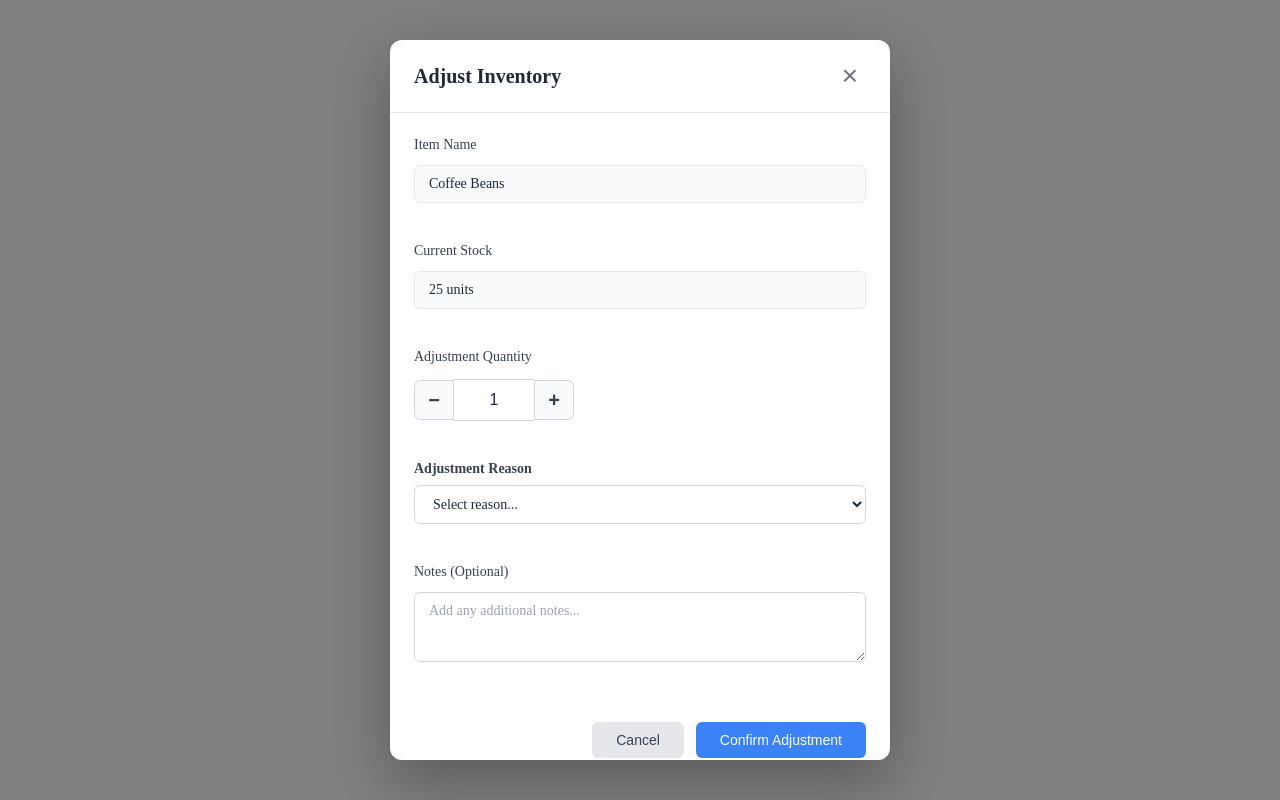
Scenario: InventoryAdjustmentForm Component › shows error when quantity is zero
The width and height of the screenshot is (1280, 800).
// Get the decrement button and click to set quantity to 0
Click the button with test id "quantity-decrement" at (434, 400), box [414,380,454,420]
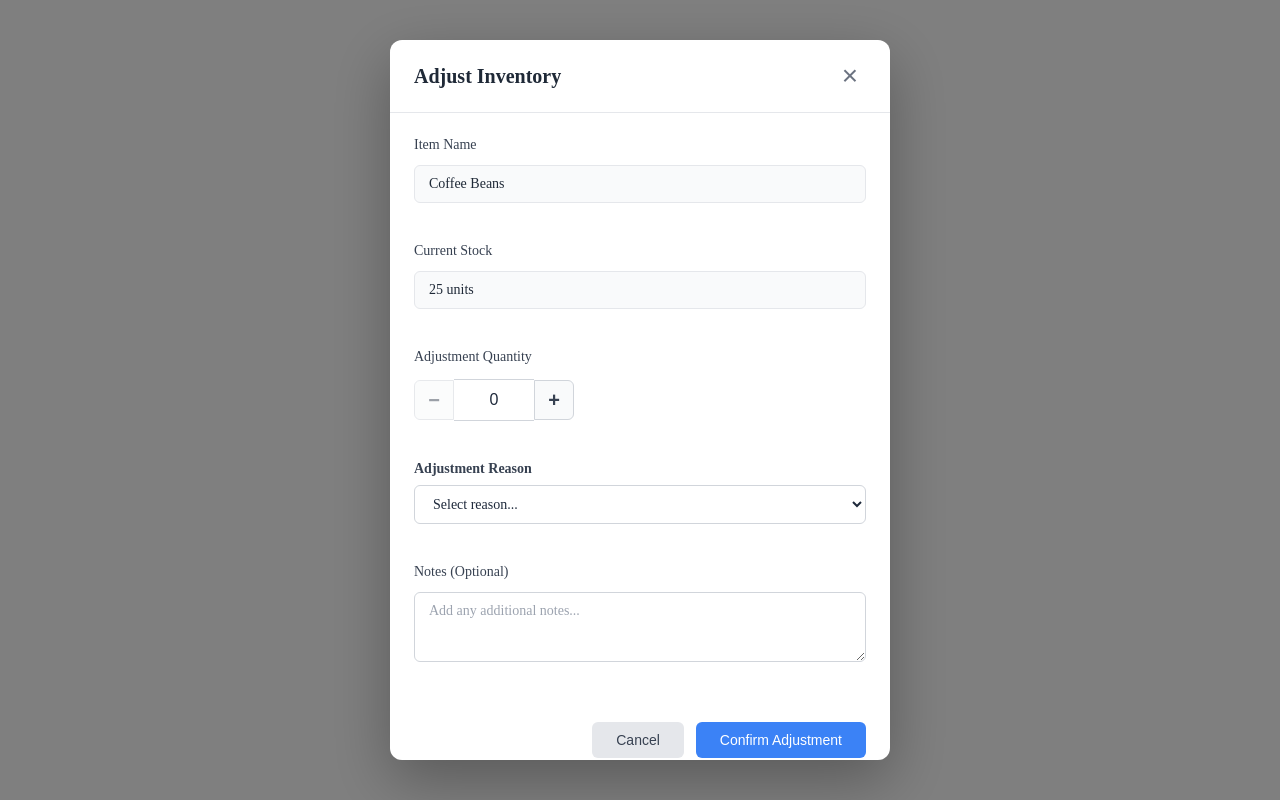
// Select reason
Select "Restock" in the dropdown with test id "reason-select" at (640, 504), box [414,485,866,524]
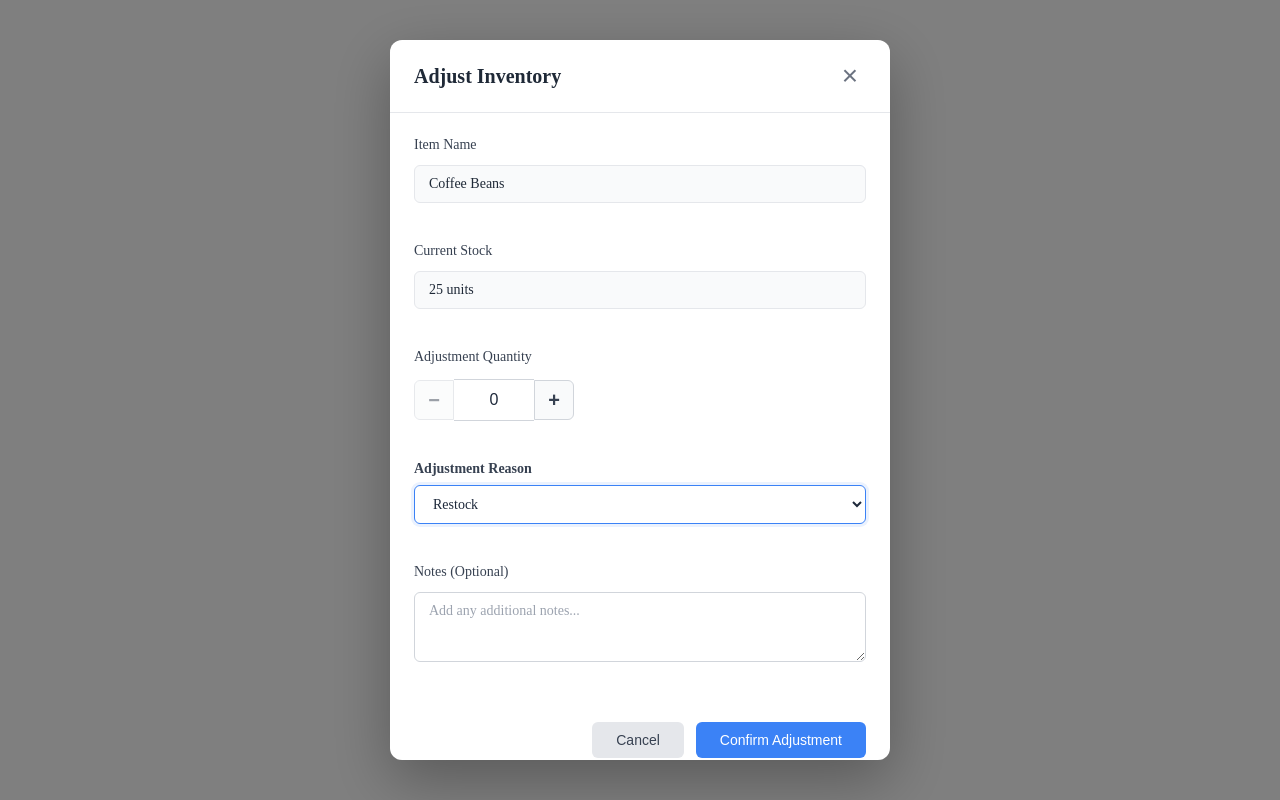
Click the button with test id "form-submit-btn" at (781, 740), box [696,722,866,758]
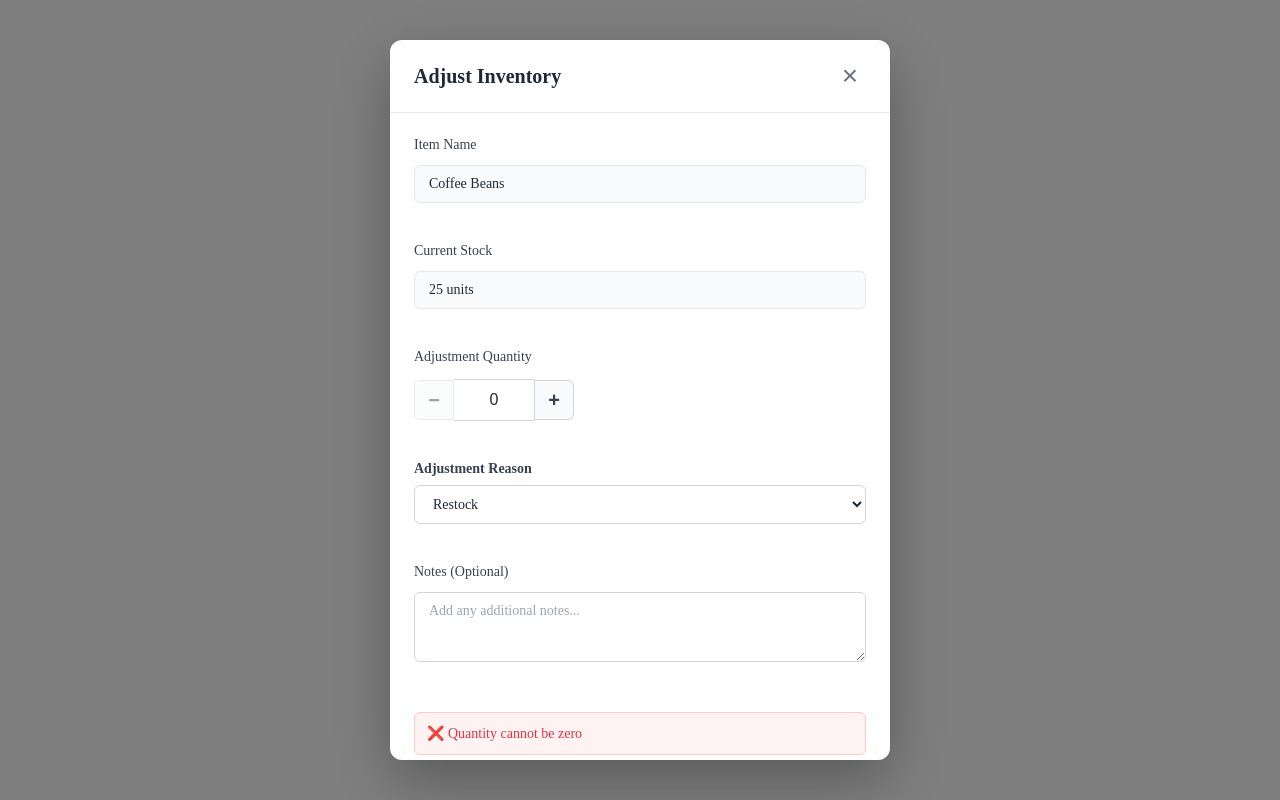
Result: the text "❌ Quantity cannot be zero" is shown at [414,712,866,755]
Result: the text with test id "form-error" shows "Quantity cannot be zero" at [448,726,582,741]
